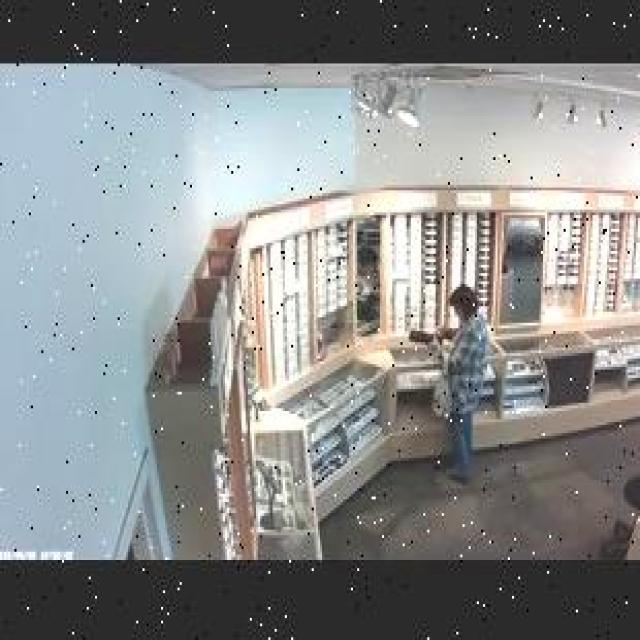Shoplifting: (395, 256, 513, 508)
